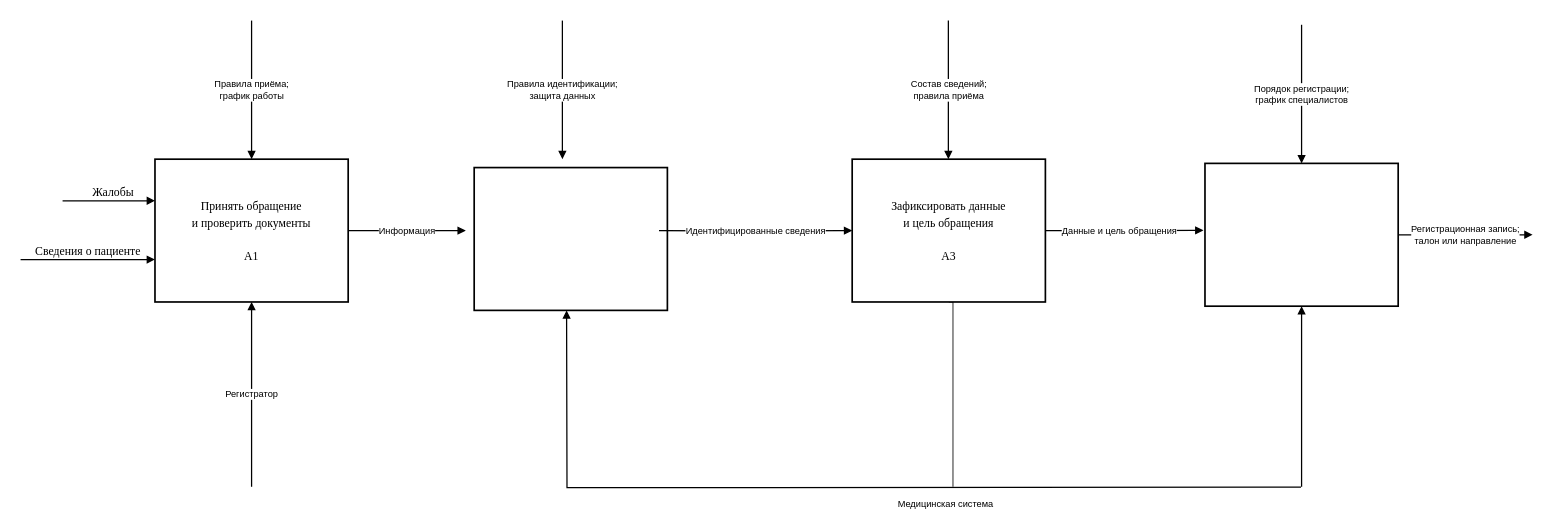
The diagram is 1555 pixels wide and 524 high, and some of its shapes have lost their labels. Each missing label, with the box of its shape:
Зарегистрировать пациента и направить к специалисту A4: (1204, 162, 1399, 307)
Идентифицировать пациента и проверить сведения А2: (473, 166, 668, 311)
